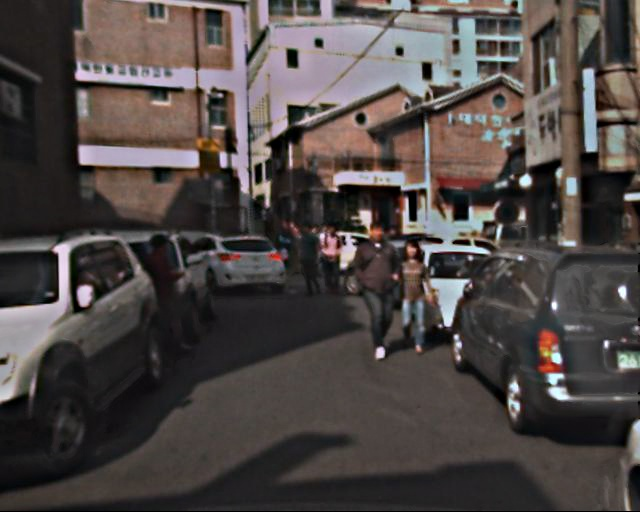person: (351, 227, 406, 361), (143, 236, 195, 362), (391, 244, 433, 346), (295, 225, 325, 298), (318, 223, 346, 292), (276, 221, 296, 267)
